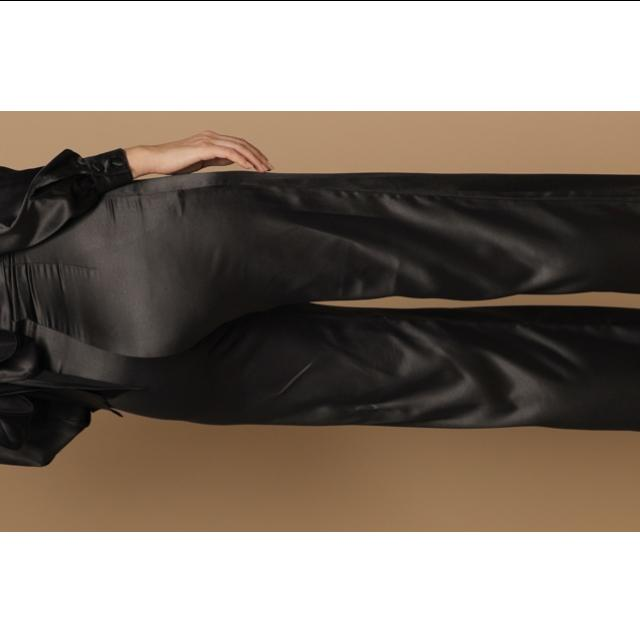silk: (0, 162, 640, 474)
